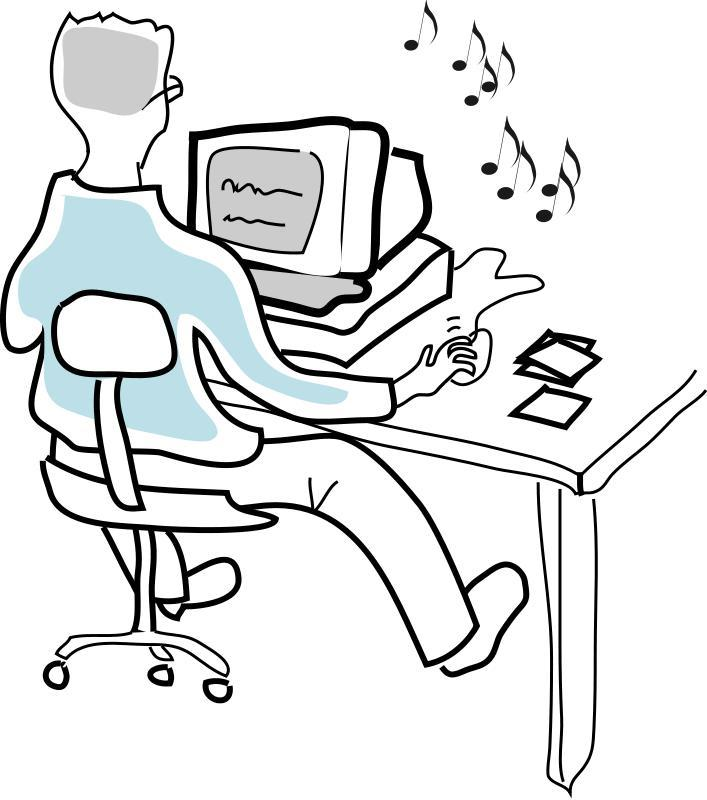chair: (27, 286, 246, 716)
person: (13, 2, 528, 678)
tvmonitor: (183, 108, 456, 368)
